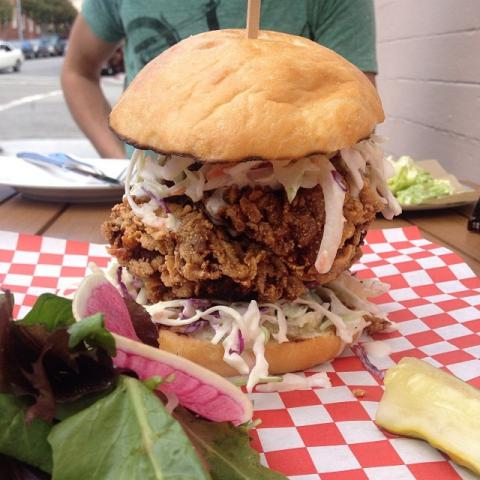car: (0, 39, 24, 73), (101, 40, 123, 73), (34, 37, 66, 58)
